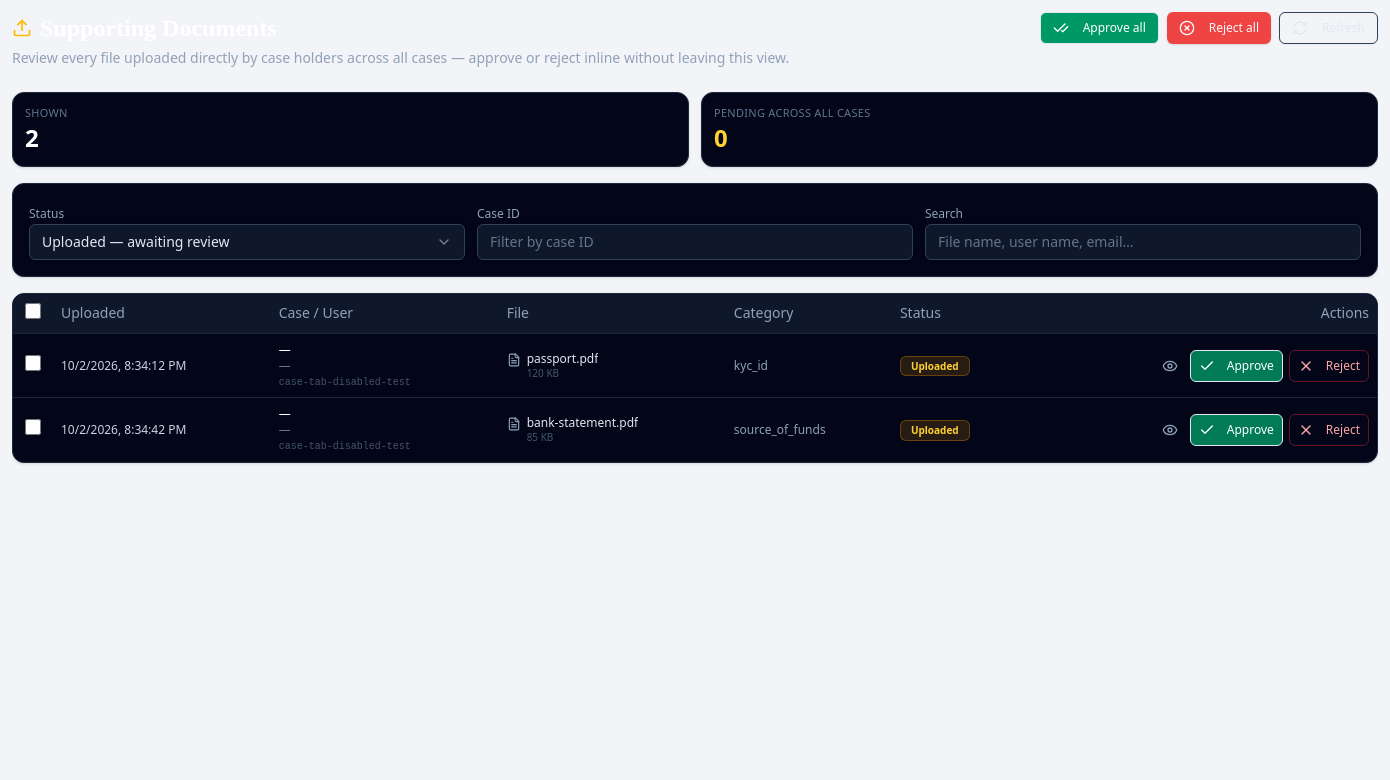
Test case: SupportingDocumentsTab — selection toolbar disabled while per-row action is in-flight › disables approve-selected and reject-selected while a per-row approve PATCH is in-flight
Click the checkbox named "Select document bank-statement.pdf".
click(33, 428)  # box x1=25 y1=420 x2=41 y2=436
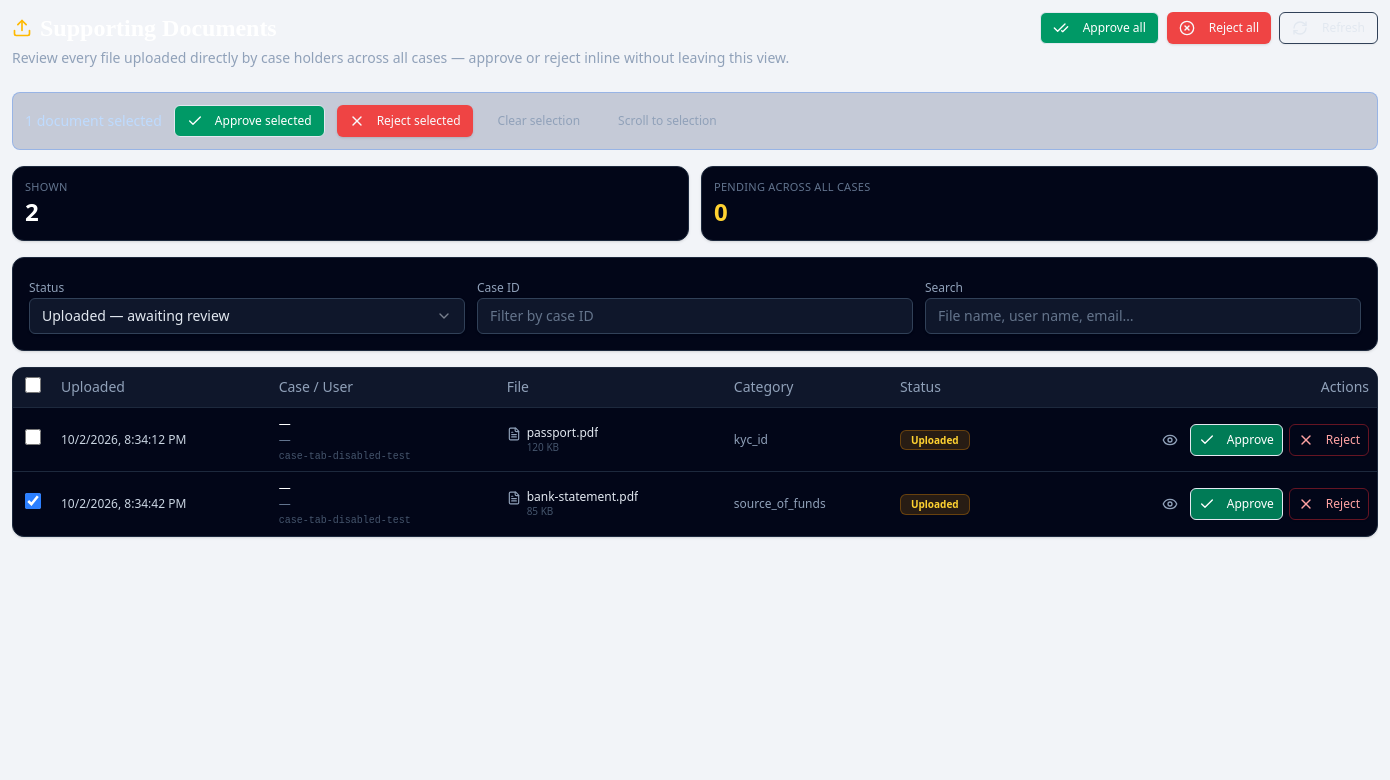
Expected: the button with test id "button-approve-selected-supporting-docs" is enabled, x1=174 y1=105 x2=325 y2=137
Expected: the button with test id "button-reject-selected-supporting-docs" is enabled, x1=337 y1=105 x2=472 y2=137
Click the button "Approve" in the row of "10/2/2026, 8:34:12 PM".
click(1236, 440)  # box x1=1190 y1=424 x2=1283 y2=456
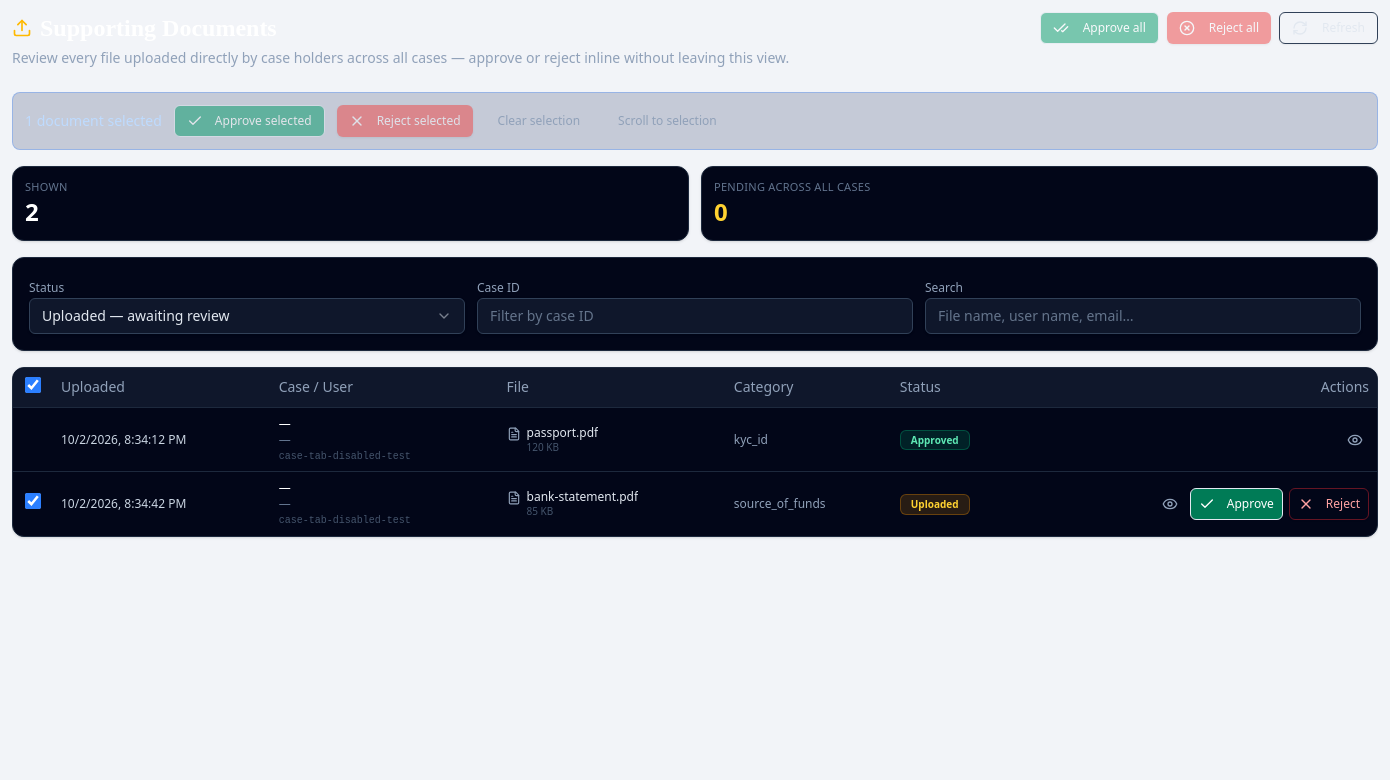
Expected: the button with test id "button-approve-selected-supporting-docs" is disabled, x1=174 y1=105 x2=325 y2=137
Expected: the button with test id "button-reject-selected-supporting-docs" is disabled, x1=337 y1=105 x2=472 y2=137
